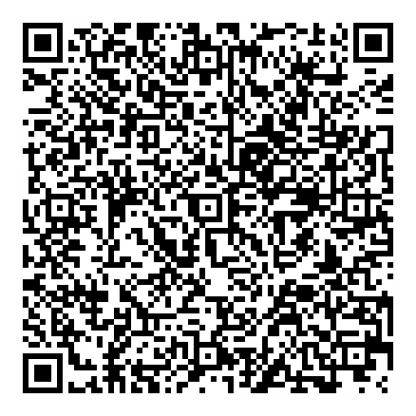qr: (18, 16, 397, 396)
